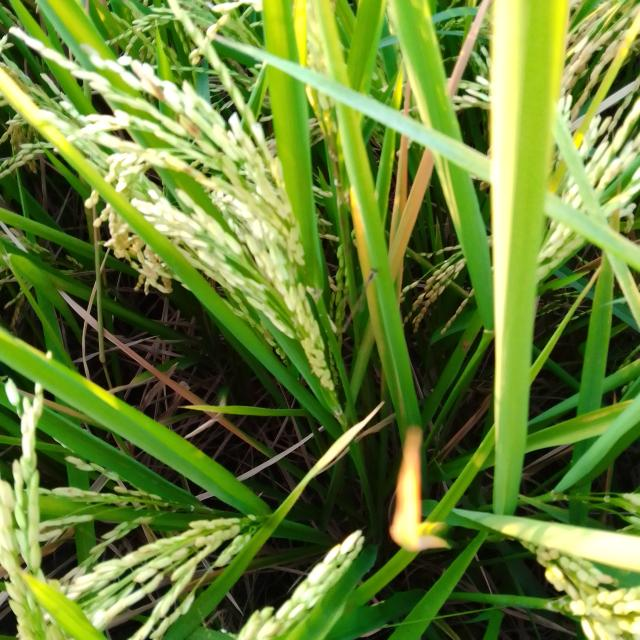Brown spot: (395, 137, 433, 275), (118, 335, 187, 403), (63, 293, 115, 344), (450, 32, 474, 94), (216, 417, 253, 451)
